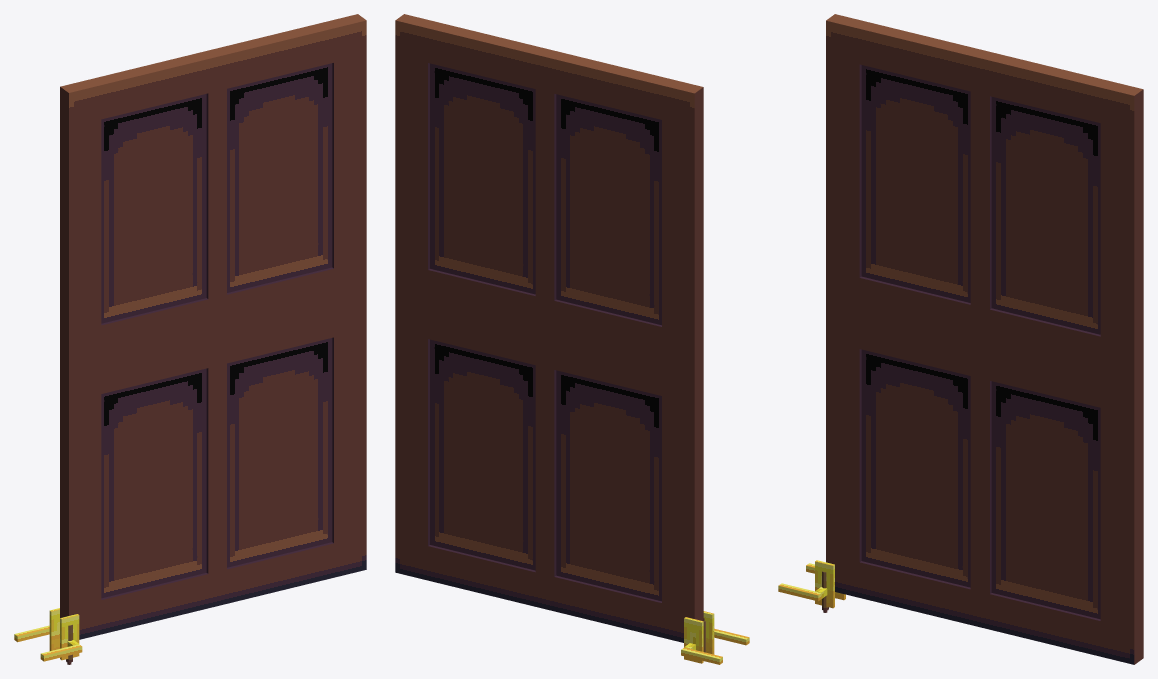
File: door_hotel.glb
3 views of the same model, side by side, from view 1: azimuth 30°, elevation 25°; view 2: azimuth 150°, elevation 25°; view 3: azimuth 330°, elevation 25° (orthographic). The views are drawn at different scales.
Parts seen in each view (by area): view 1: leaf, handle; view 2: leaf, handle; view 3: leaf, handle.
Boxes of the visible parts, x1,y1,x2,y2 form: leaf: (60,14,366,639); handle: (14,608,82,661); leaf: (395,14,703,642); handle: (681,611,749,664); leaf: (826,14,1143,664); handle: (778,560,845,608).
Bounding box in the file's own units: 1.32 × 2.16 × 0.204.
Materials: 1 (1 with a texture image).
